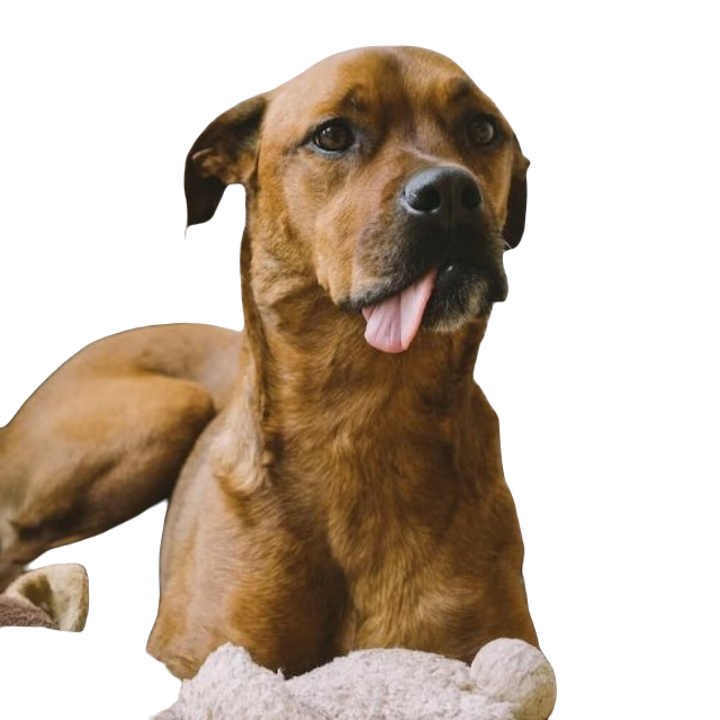Dog: (0, 42, 557, 719)
